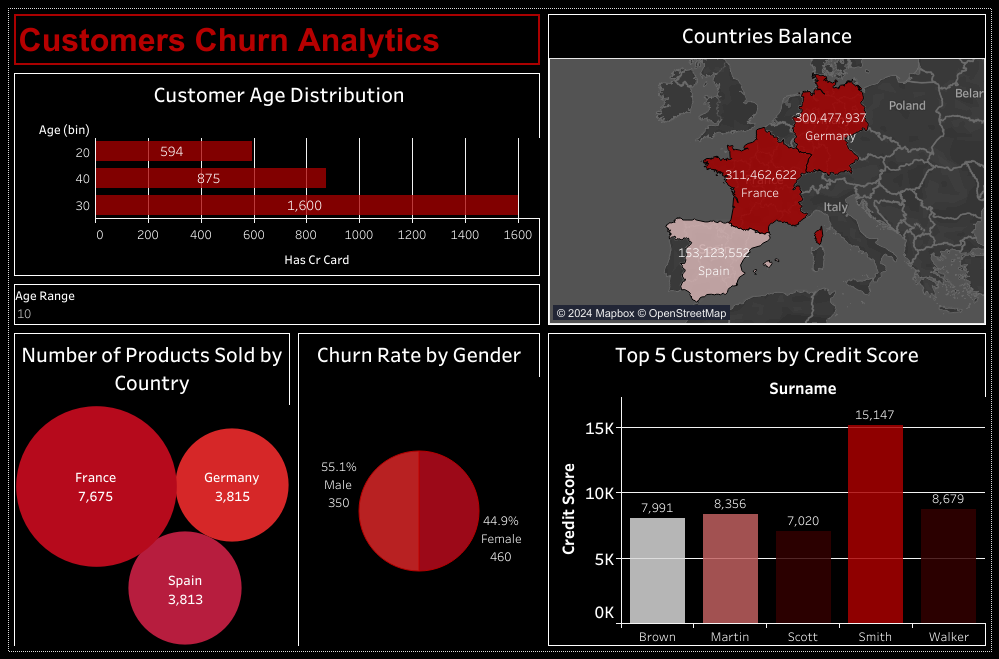

The page's visual inventory and layout, read from the dashboard file:
{"tool":"tableau","page":{"name":"Customers Churn Analytics Dashboard","canvas":[1000,1000],"units":"permille","ordinal":0},"visuals":[{"type":"text","box":[10,15.2,533.6,89.6]},{"type":"worksheet","title":"Countries Balance","mark":"Automatic","box":[543.6,15.2,446.4,484]},{"type":"worksheet","title":" Customer Age Distribution","mark":"Automatic","rows":["Age (bin)"],"cols":["HasCrCard"],"box":[10,104.8,533.6,320.2]},{"type":"parameter","param":"[Parameters].[Age (bin) Parameter]","box":[10,425,533.6,73.8]},{"type":"worksheet","title":"Number of Products Sold by Country","mark":"Circle","box":[10,498.8,284,486]},{"type":"worksheet","title":"Churn Rate by Gender","mark":"Pie","box":[294,498.8,249.7,486]},{"type":"worksheet","title":"Top 5 Customers by Credit Score","mark":"Automatic","rows":["CreditScore"],"cols":["Surname"],"box":[543.6,499.2,446.4,485.7]}]}

Visuals, with their boxes on the dashboard's canvas, which has no fixed pixel size, in thousandths of its width and height (x1, y1, x2, y2). These are canvas units, not pixel positions in the 999x659 screenshot, which may show the page scaled, cropped or inside an application window:
text: left=10, top=15, right=544, bottom=105
"Countries Balance" worksheet: left=544, top=15, right=990, bottom=499
" Customer Age Distribution" worksheet: left=10, top=105, right=544, bottom=425
parameter: left=10, top=425, right=544, bottom=499
"Number of Products Sold by Country" worksheet (Circle marks): left=10, top=499, right=294, bottom=985
"Churn Rate by Gender" worksheet (Pie marks): left=294, top=499, right=544, bottom=985
"Top 5 Customers by Credit Score" worksheet: left=544, top=499, right=990, bottom=985
